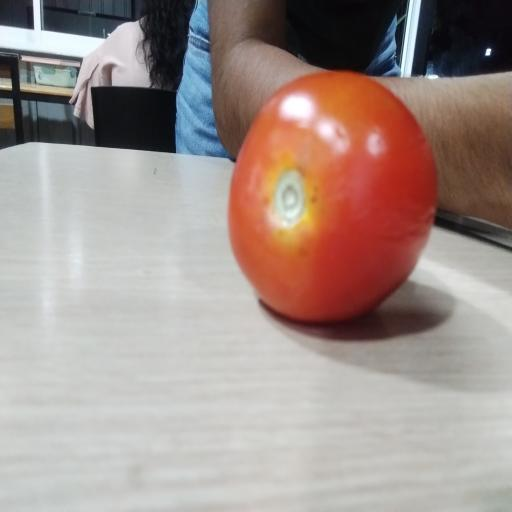spoiled: (228, 72, 437, 321)
